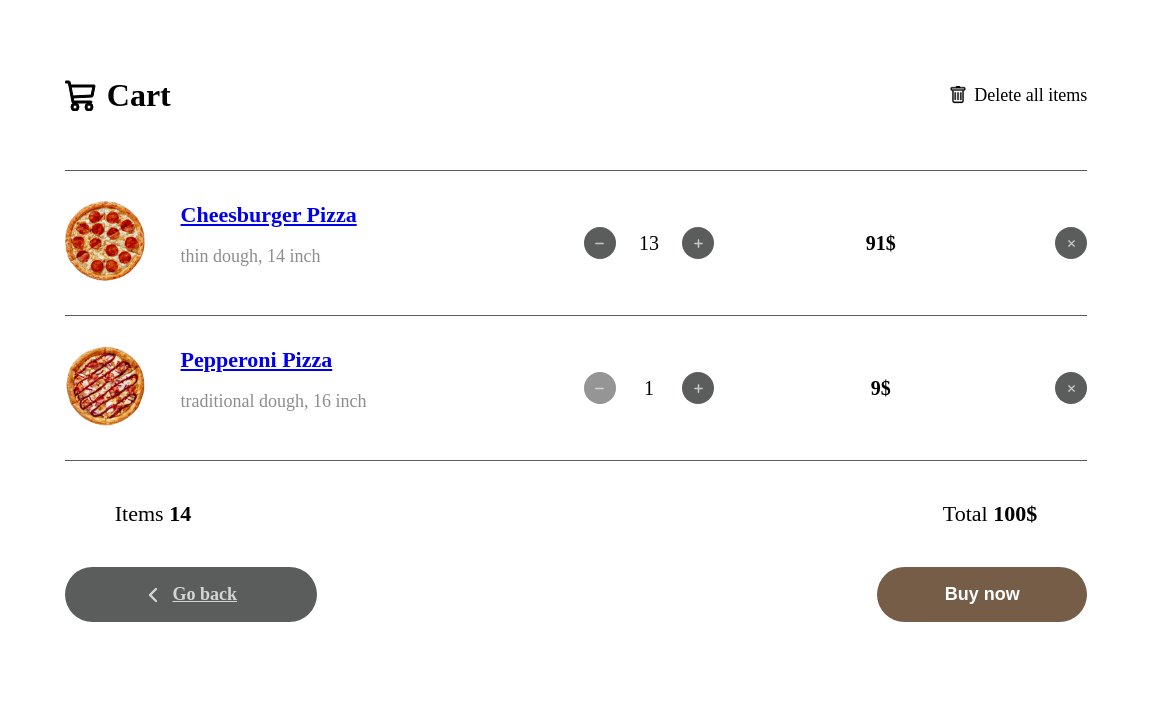
Test case: CartItem tests › CartItem button tests › should change global count
Click the button named "minus" next to "13" at (600, 243), box [584,227,616,259]
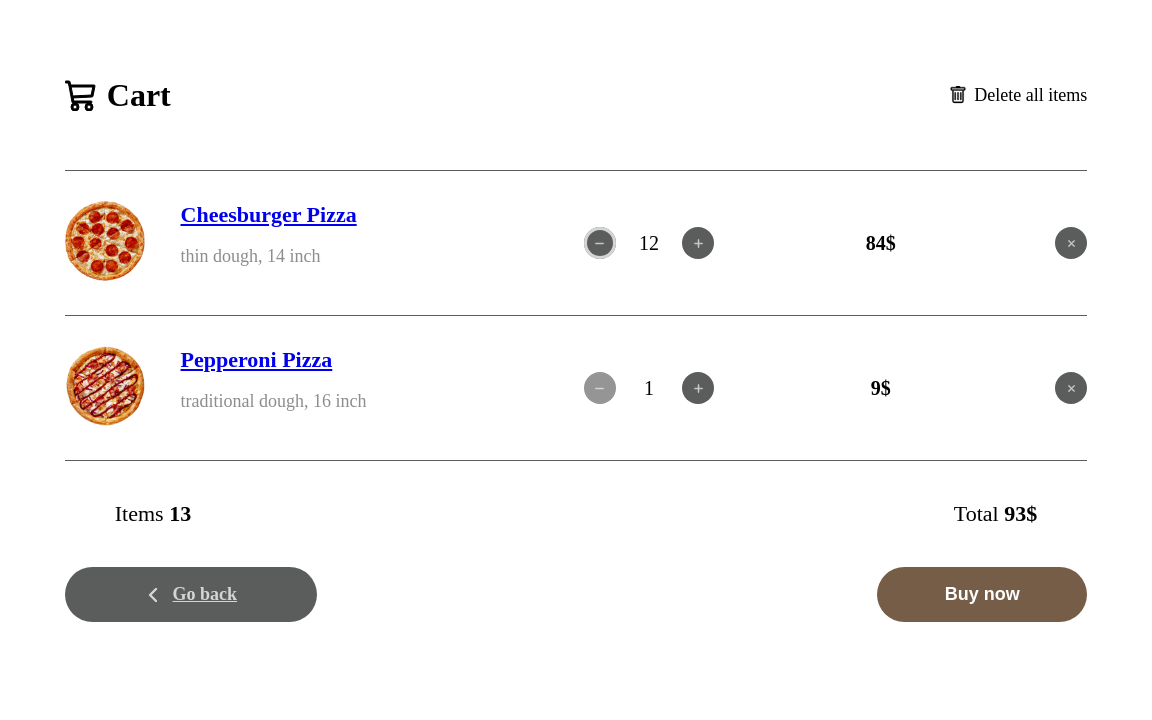
Click the button named "plus" next to "12" at (698, 243), box [682,227,714,259]
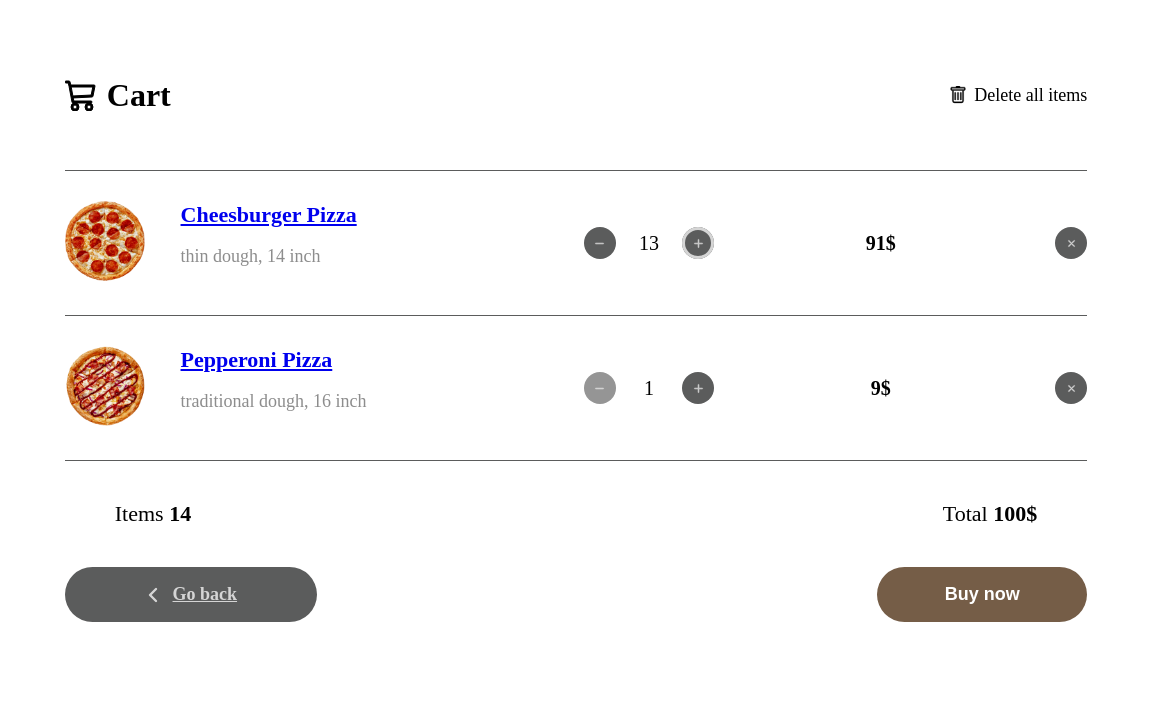
Click the button named "plus" next to "13" at (698, 243), box [682,227,714,259]
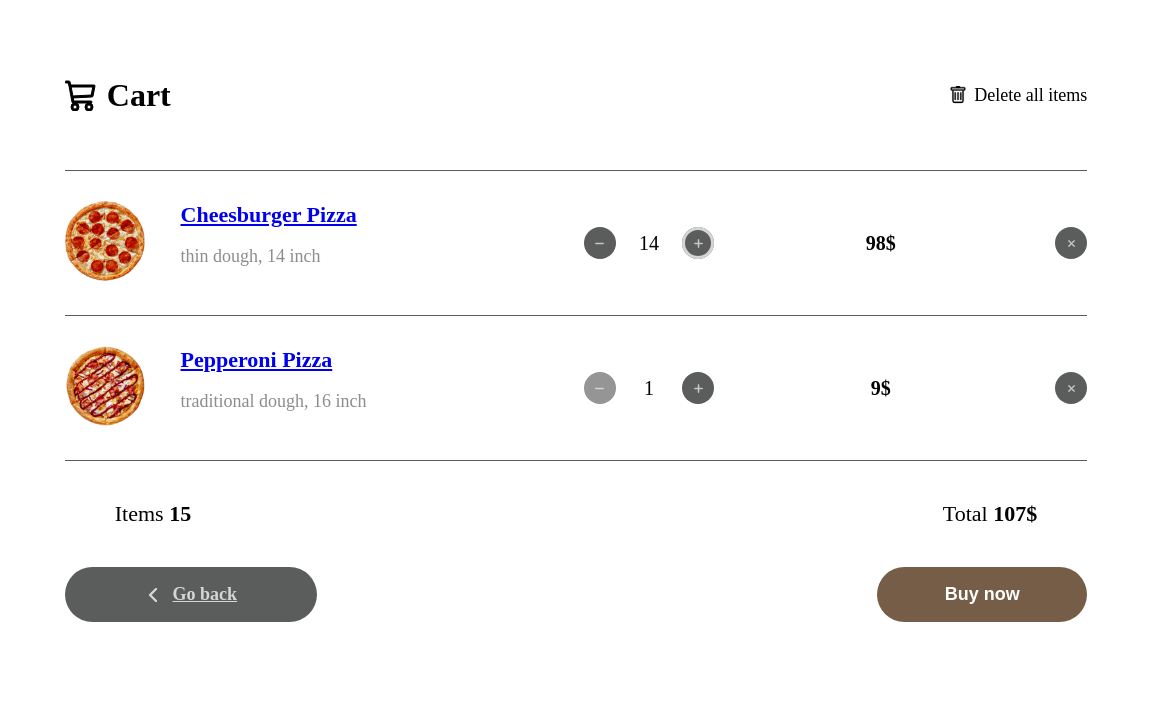
Click the button named "plus" in the row of "16" at (698, 388), box [682,372,714,404]
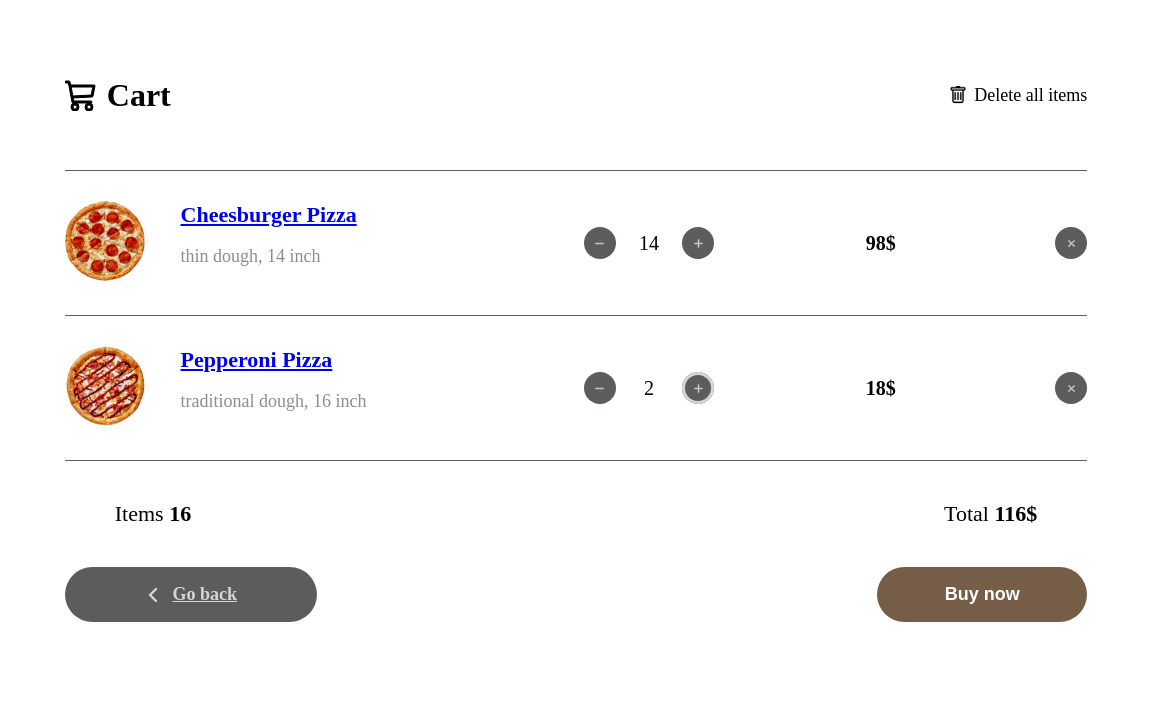
Click the button named "plus" next to "18" at (698, 388), box [682,372,714,404]
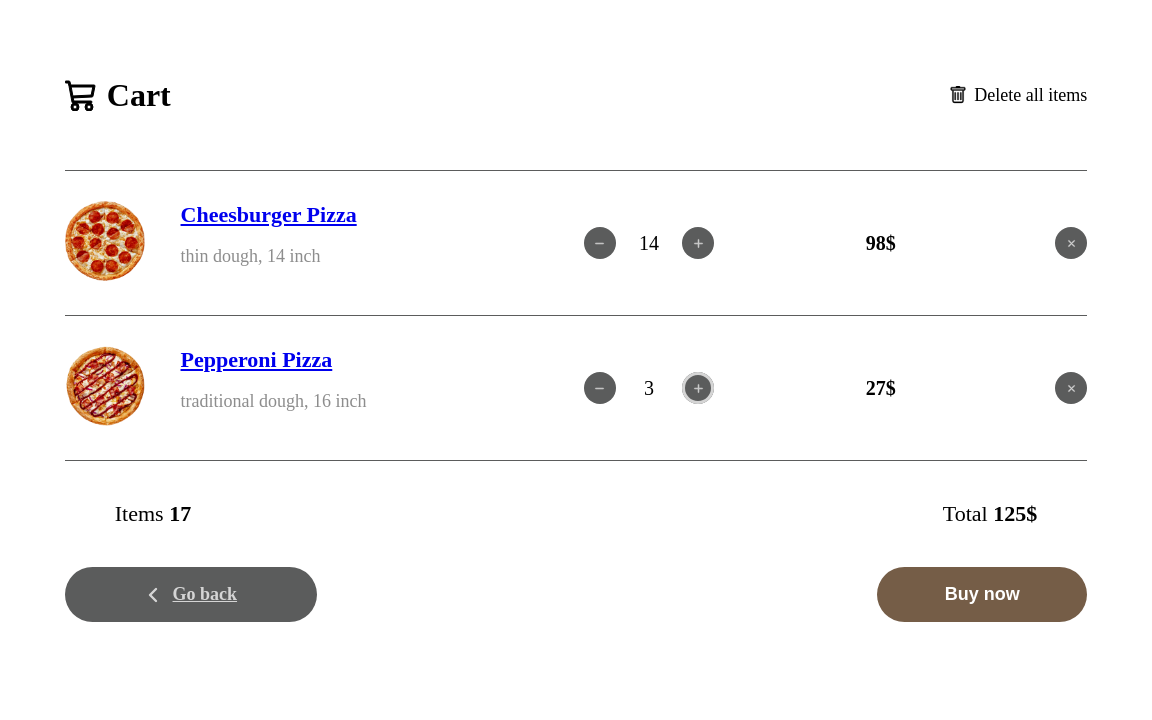
Expected: the text with test id "cartPageItemsCount" reads "17", [169,501,191,526]
